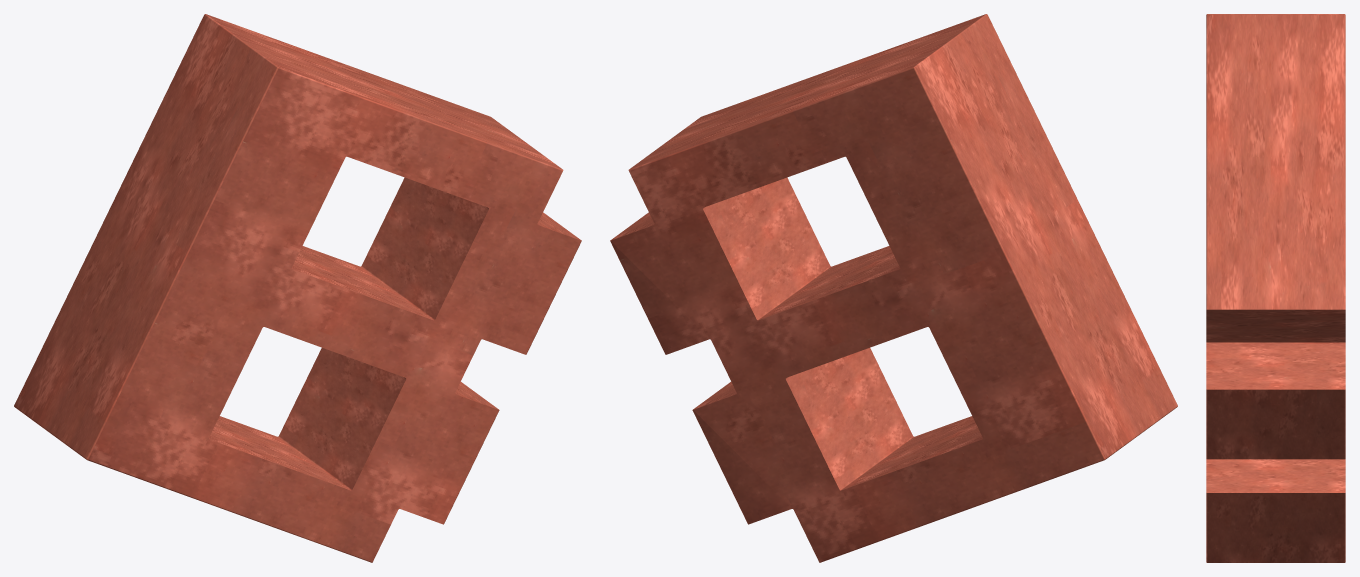
File: brick-b-latest.glb
The picture shows the model from 3 angles, left to right: view 1: azimuth 30°, elevation 25°; view 2: azimuth 150°, elevation 25°; view 3: azimuth 270°, elevation 25°; orthographic projection. The views are drawn at different scales.
Parts seen in each view (by area): view 1: Boole; view 2: Boole; view 3: Boole.
Part boxes in pixels (<box>): Boole: <box>14,14,581,562</box>; Boole: <box>610,14,1177,562</box>; Boole: <box>1206,14,1345,562</box>.
Size of the model in its own units: 389 by 389 by 100.
Materials: 1 (1 with a texture image).
